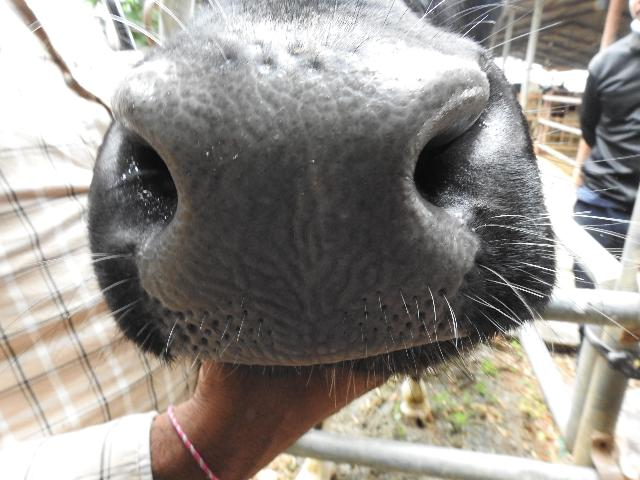Muzzle: (137, 65, 453, 345)
